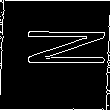N_E: (6, 35, 104, 75)
